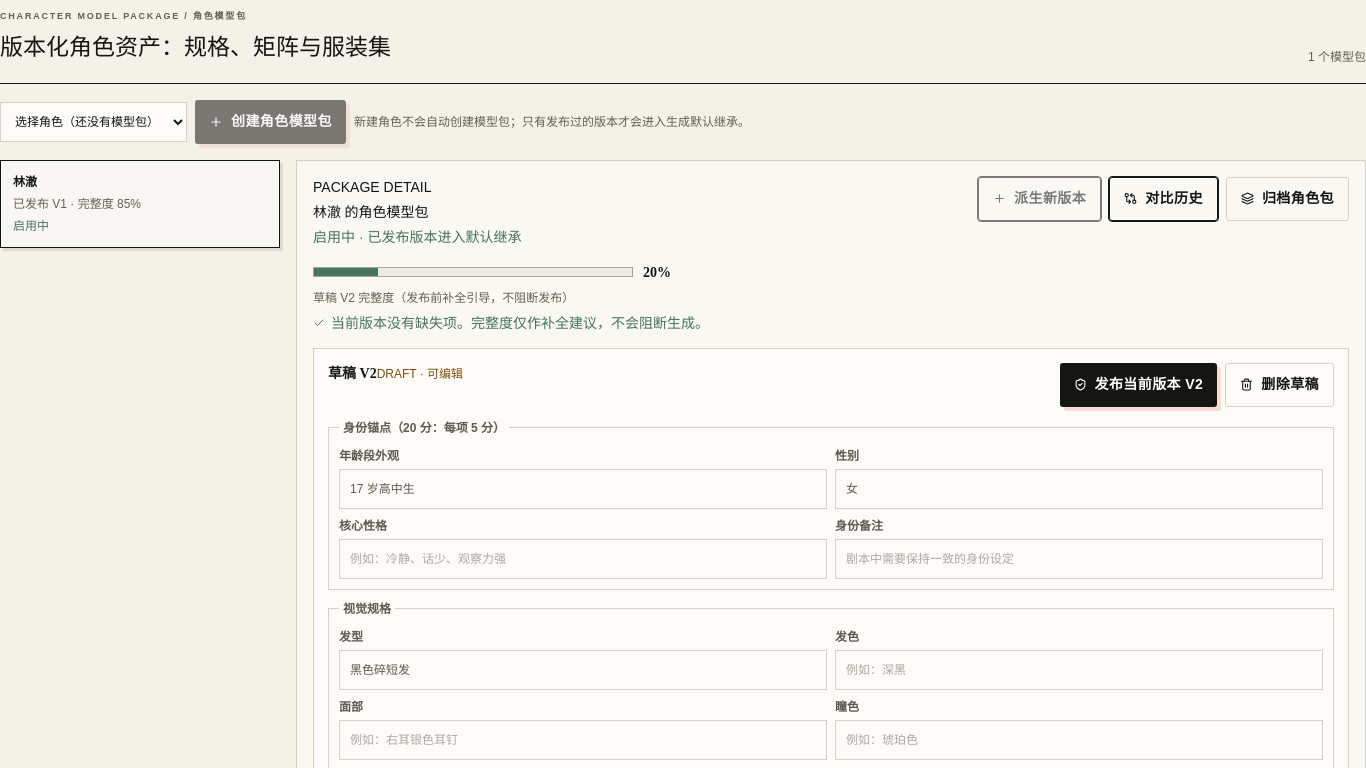
it: CharacterPackageWorkspace › TEST-PKG-05 差异对比模态框展示规格与矩阵差异，Esc 关闭
Step 1. Click the button "对比历史" → (1164, 198), box left=1109, top=176, right=1218, bottom=220
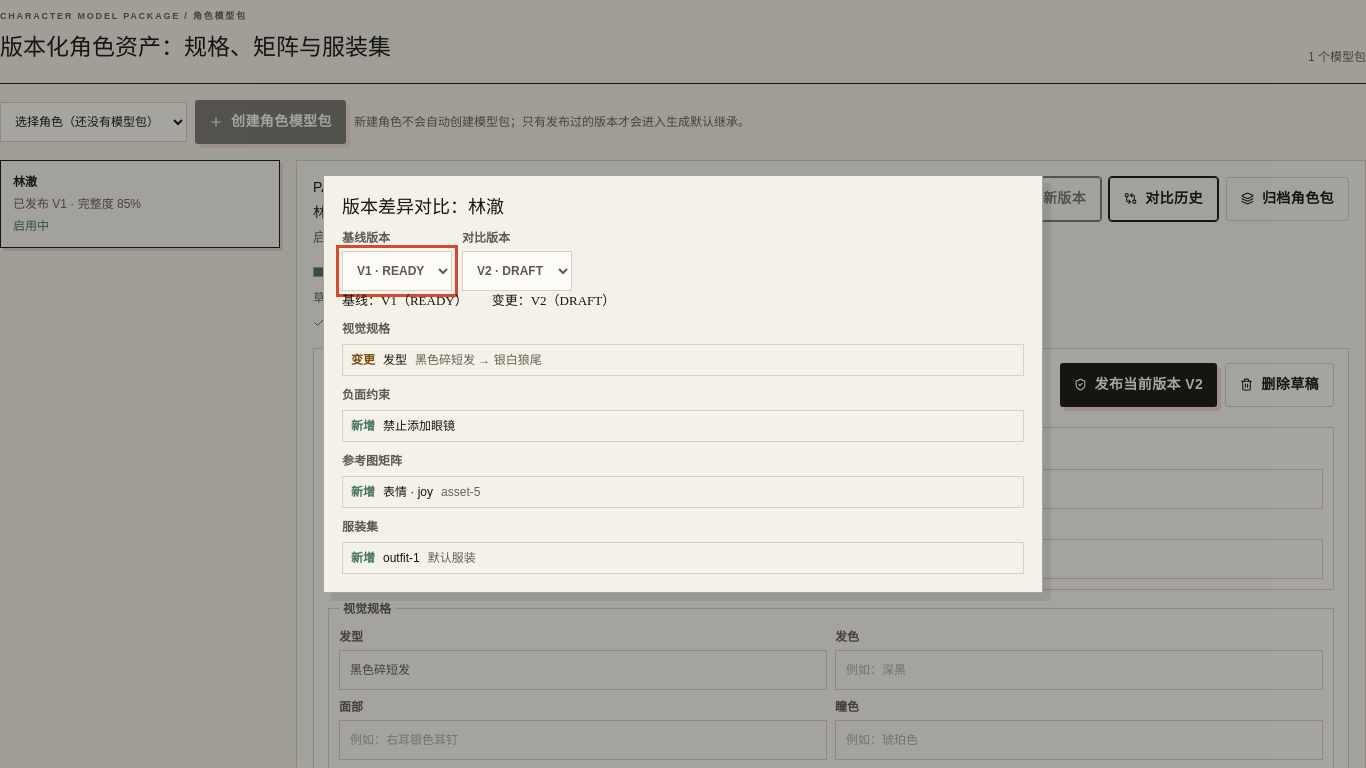
Check: the text "发型" is shown, box left=383, top=351, right=407, bottom=369
Check: the text "黑色碎短发 → 银白狼尾" is shown, box left=415, top=351, right=542, bottom=369
Check: the text "禁止添加眼镜" is shown, box left=383, top=417, right=455, bottom=435
Step 2. Press Escape in the dialog "版本差异对比：林澈", box left=323, top=175, right=1043, bottom=593
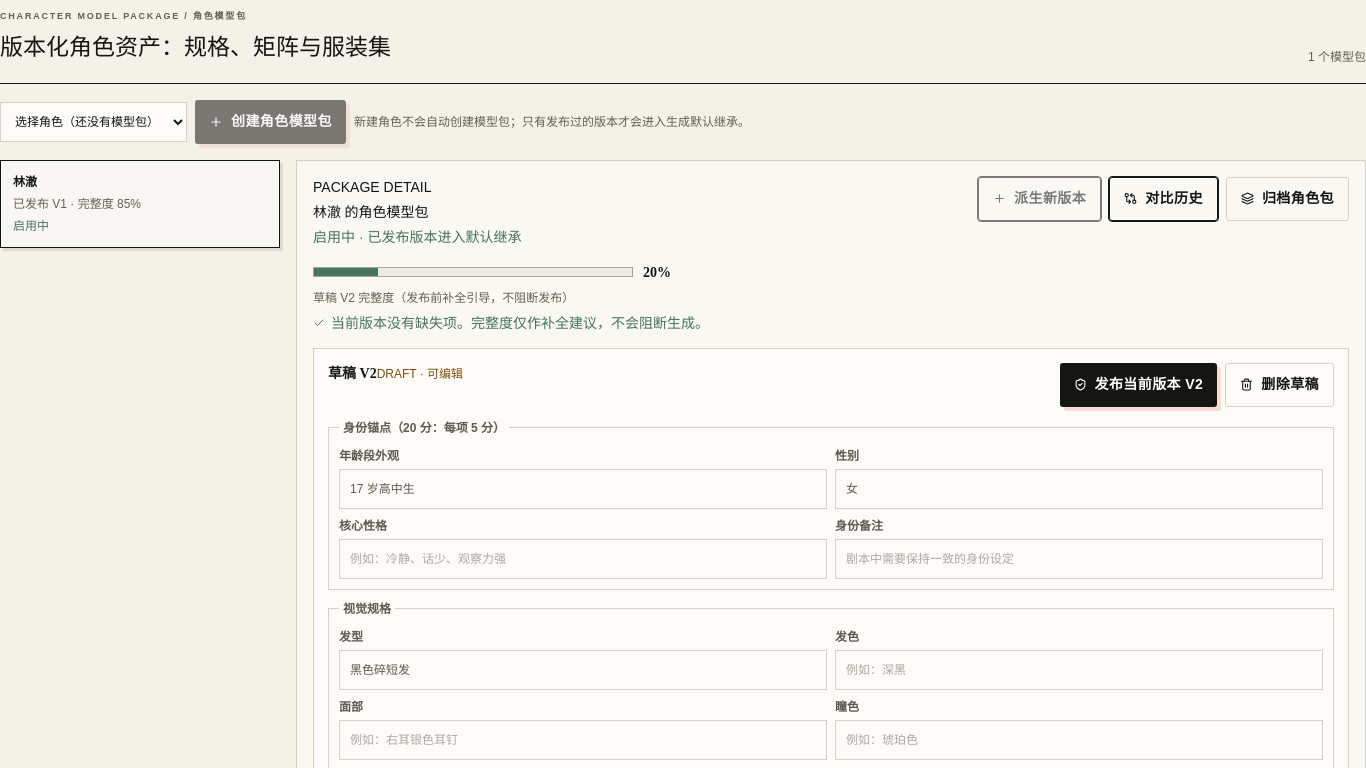
Check: the heading "版本差异对比：林澈" is gone
